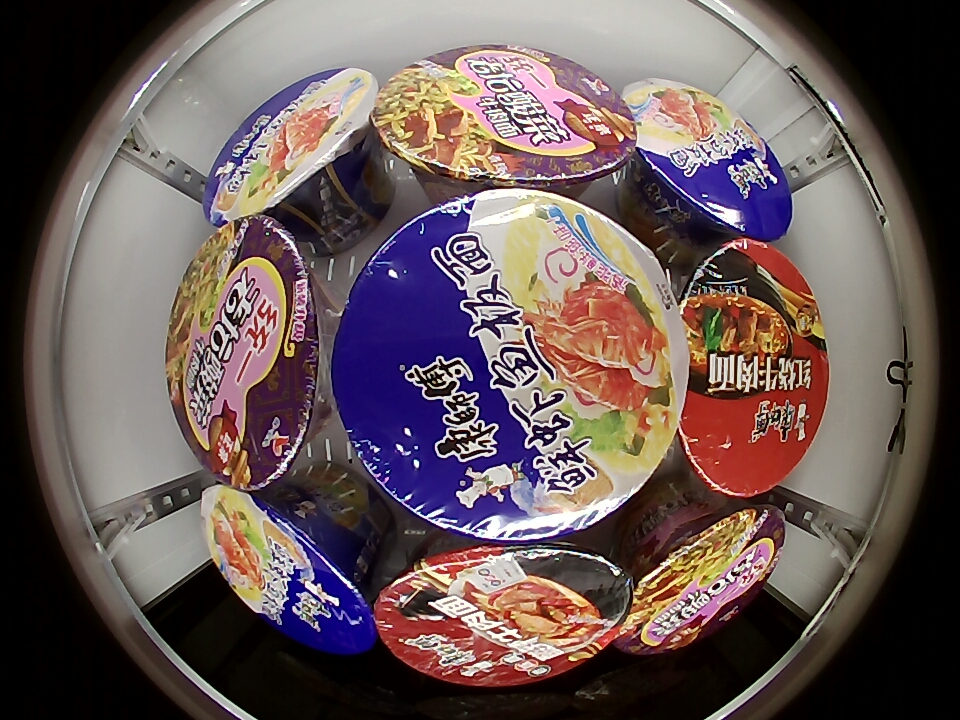hongshaoniurou: (675, 239, 829, 498)
laotansuancai: (167, 215, 330, 491), (371, 45, 639, 194), (618, 503, 785, 655)
suanlaniurou: (373, 542, 634, 687)
xianxiayuban: (332, 188, 688, 543), (202, 480, 377, 655), (622, 78, 794, 242), (202, 68, 378, 226)
